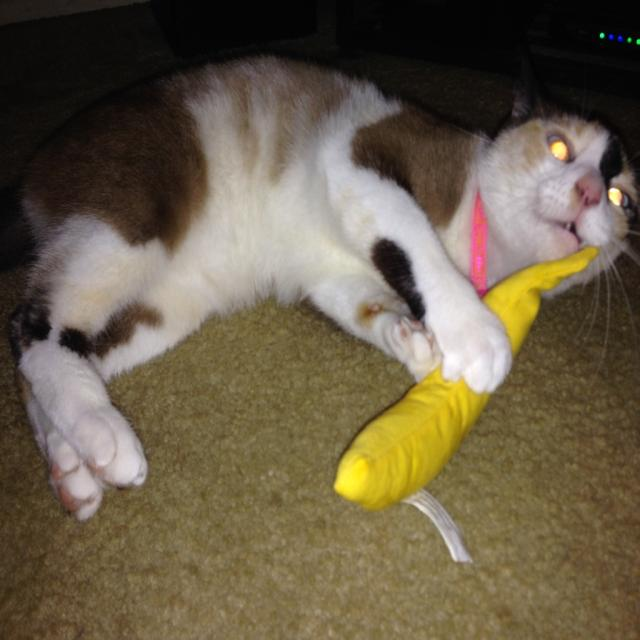Cat: (6, 55, 640, 522)
